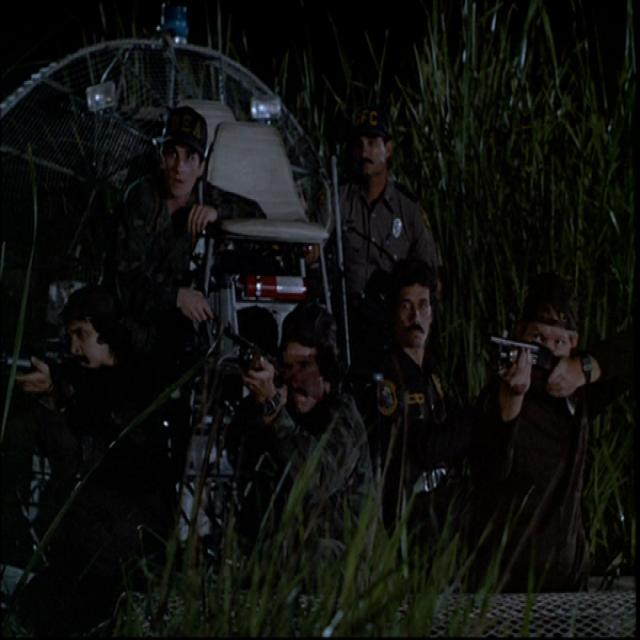rifle: (487, 331, 584, 429)
